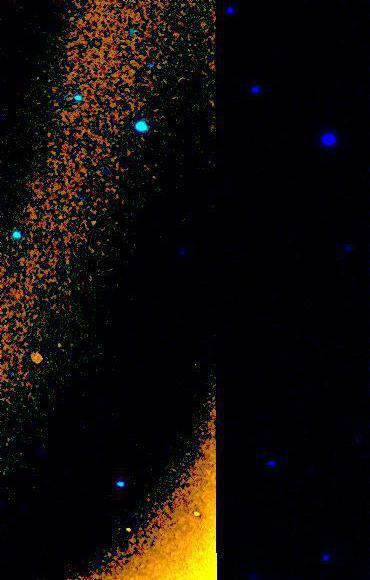star: (44, 330, 74, 360)
